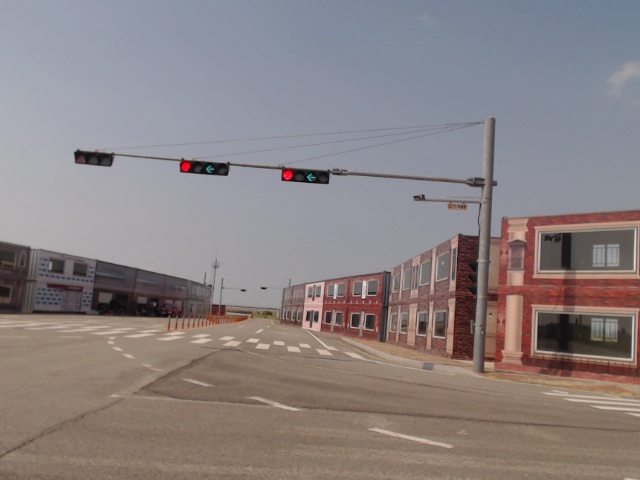left_green_4: (182, 160, 228, 176), (283, 168, 329, 184)
